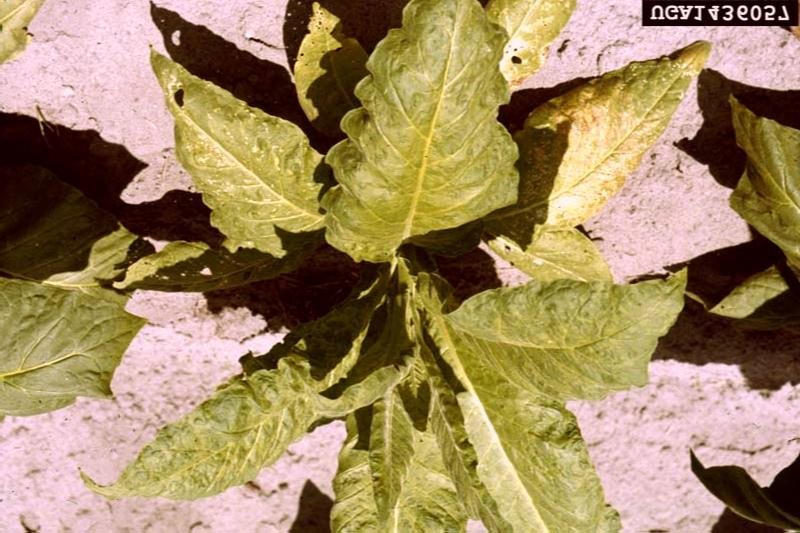Tomato leaf mosaic virus: (73, 294, 385, 505), (317, 0, 523, 262), (155, 73, 321, 281), (456, 268, 695, 389)
